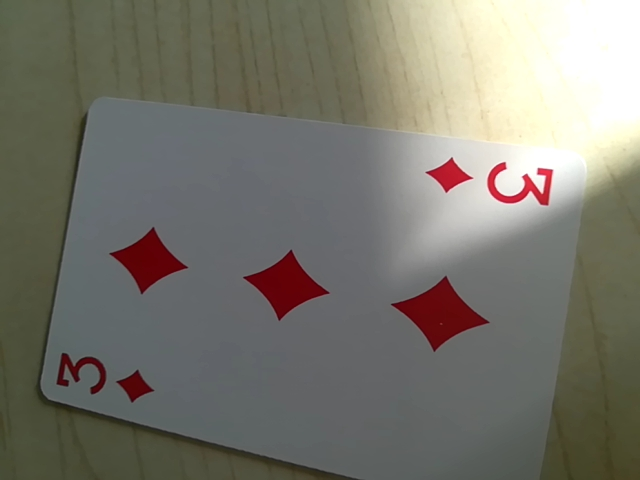fk 3: (415, 152, 561, 214), (47, 341, 154, 412)
